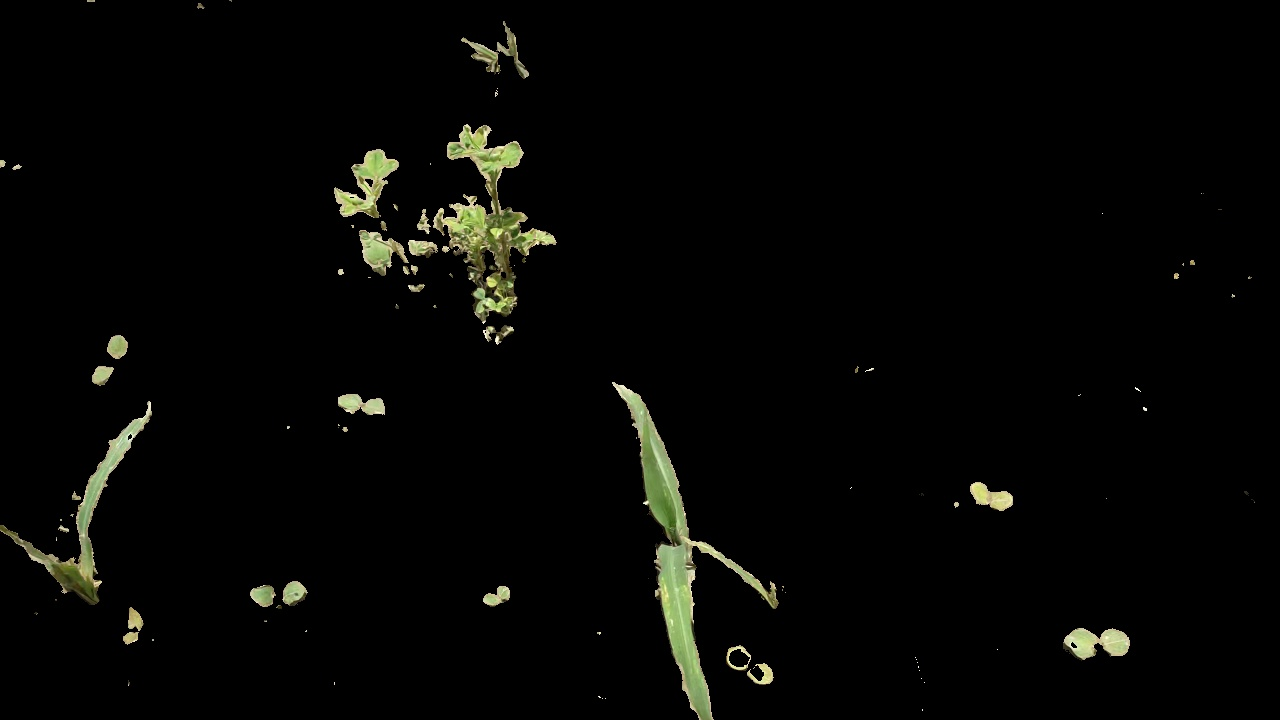crop: (601, 376, 795, 638), (5, 401, 161, 605)
weed: (433, 118, 568, 349), (336, 141, 433, 315), (460, 19, 536, 84), (1061, 627, 1140, 663), (336, 381, 389, 422), (726, 646, 780, 685), (93, 332, 130, 388), (962, 478, 1016, 516), (246, 581, 311, 611), (120, 605, 148, 645), (482, 582, 515, 611)
